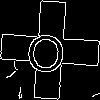O: (25, 25, 67, 73)
